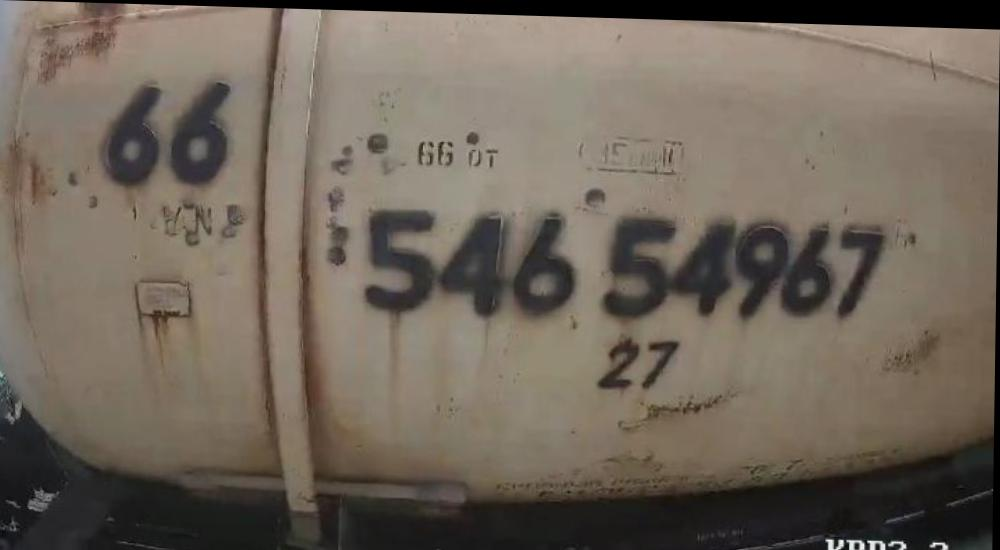Wagon-number: (358, 199, 896, 328)
